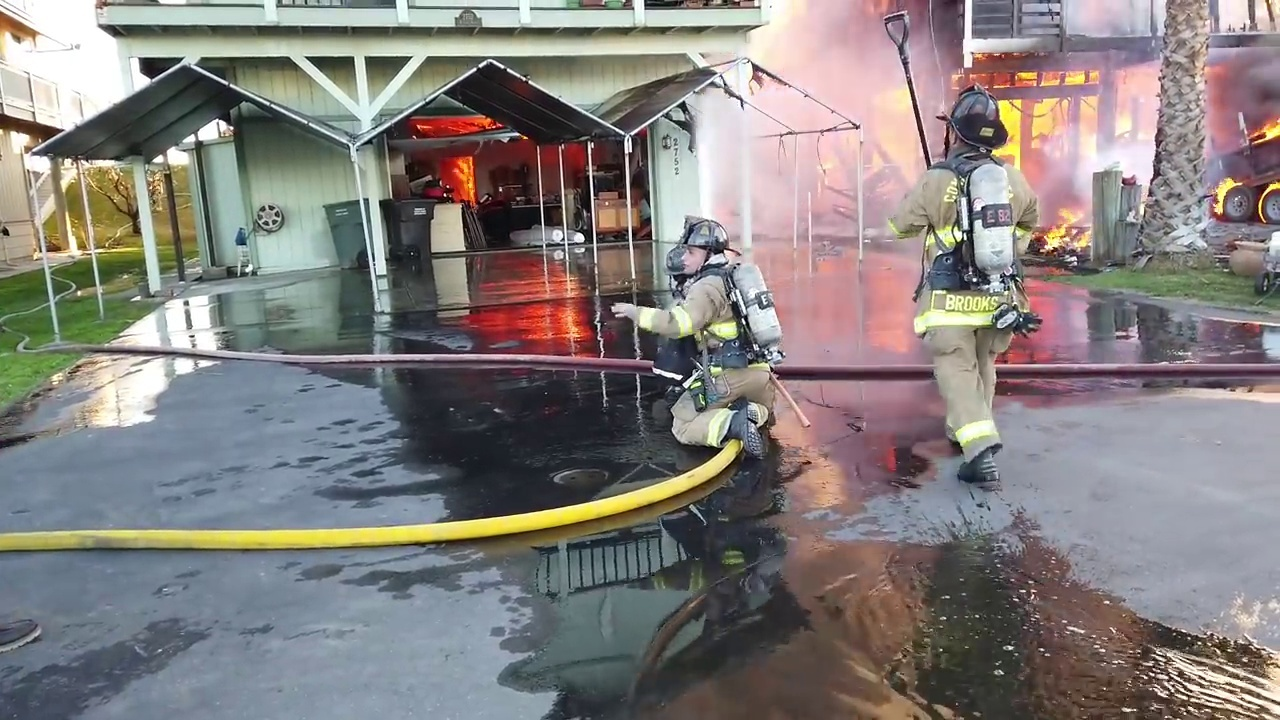fire: (991, 70, 1098, 176), (405, 108, 497, 207), (868, 81, 919, 183), (1206, 168, 1280, 236), (1037, 209, 1086, 249), (1252, 85, 1280, 145)
smoke: (691, 49, 912, 277), (763, 1, 931, 47), (1107, 73, 1157, 169), (1206, 82, 1250, 158), (1213, 41, 1280, 81)
